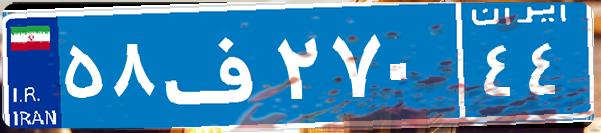0: (385, 28, 445, 110)
2: (273, 28, 330, 110)
4: (475, 38, 525, 113), (525, 38, 570, 115)
5: (57, 26, 110, 107)
7: (330, 28, 385, 110)
8: (110, 28, 158, 105)
ف: (158, 15, 273, 115)
